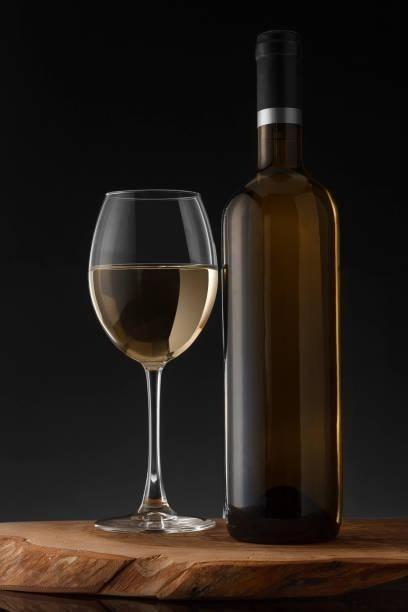bottle-glass: (215, 23, 347, 545)
glass-wine: (85, 187, 220, 536)
